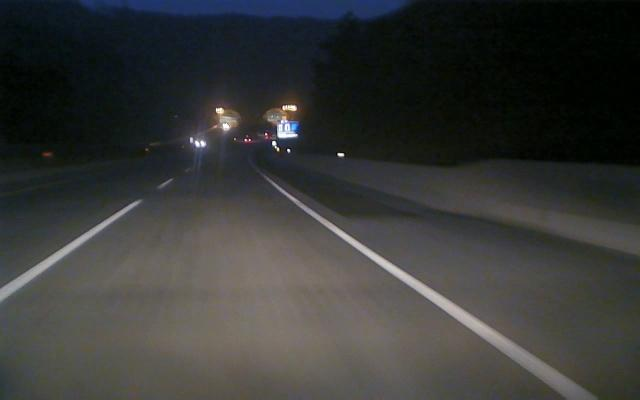lane: (273, 184, 603, 400), (0, 178, 175, 303)
